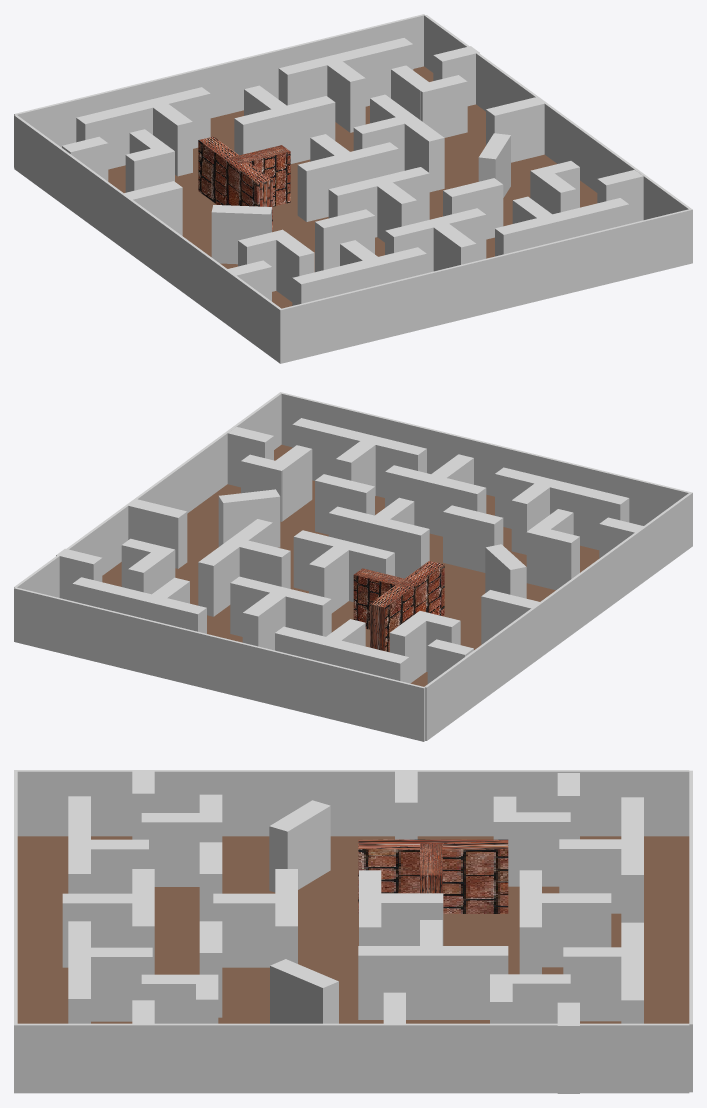
Rendered from PacManLevel.glb.
The picture shows the model from 3 angles, top to bottom: view 1: azimuth 30°, elevation 25°; view 2: azimuth 150°, elevation 25°; view 3: azimuth 270°, elevation 25°; orthographic projection. The views are drawn at different scales.
Parts seen in each view (by area): view 1: Wall.001, Floor.060, Wall.034, Wall.031, Wall.016, Wall.004, Wall.020, Wall.019, Wall.009, Wall.005, Wall.017, Wall.026 (+14 smaller); view 2: Wall.001, Floor.060, Wall.005, Wall.009, Wall.016, Wall.004, Wall.017, Wall.020, Wall.026, Wall.019, Wall.031, Wall.034 (+14 smaller); view 3: Wall.001, Floor.060, Wall.017, Wall.016, Wall.004, Wall.031, Wall.019, Wall.009, Wall.034, Wall.026, Wall.005, Wall.013 (+14 smaller).
Boxes of the visible parts, x1,y1,x2,y2 form: Wall.001: [14, 14, 692, 363]; Floor.060: [108, 66, 597, 308]; Wall.034: [278, 38, 413, 132]; Wall.031: [76, 87, 210, 176]; Wall.016: [198, 136, 290, 230]; Wall.004: [234, 85, 335, 163]; Wall.020: [297, 134, 398, 221]; Wall.019: [328, 167, 429, 242]; Wall.009: [495, 196, 629, 256]; Wall.005: [292, 240, 426, 305]; Wall.017: [353, 94, 444, 192]; Wall.026: [385, 208, 486, 272]; Wall.001: [14, 392, 692, 741]; Floor.060: [102, 444, 599, 686]; Wall.005: [495, 467, 629, 554]; Wall.009: [292, 418, 426, 497]; Wall.016: [353, 561, 444, 652]; Wall.004: [230, 576, 331, 650]; Wall.017: [198, 519, 290, 616]; Wall.020: [293, 530, 394, 613]; Wall.026: [385, 454, 486, 536]; Wall.019: [328, 497, 429, 578]; Wall.031: [275, 619, 409, 682]; Wall.034: [72, 577, 206, 633]; Wall.001: [14, 770, 692, 1093]; Floor.060: [17, 836, 689, 1023]; Wall.017: [358, 920, 508, 1019]; Wall.016: [358, 839, 508, 913]; Wall.004: [519, 870, 611, 974]; Wall.031: [559, 797, 643, 922]; Wall.019: [213, 869, 297, 967]; Wall.009: [68, 921, 152, 1023]; Wall.034: [563, 922, 643, 1023]; Wall.026: [62, 869, 154, 974]; Wall.005: [68, 796, 148, 893]; Wall.013: [141, 794, 222, 886].
Size of the model in its own units: 16.14 by 2 by 18.1.
2 materials, 1 textured.
